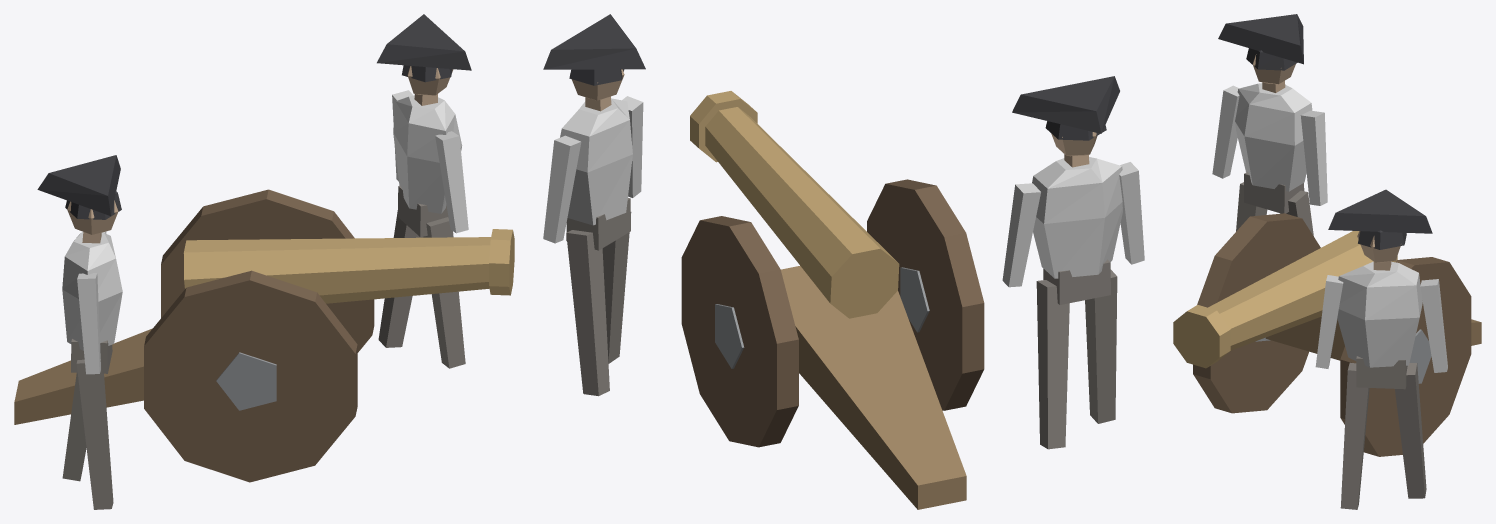
The model's file is cannon.glb.
3 views of the same model, side by side, from view 1: azimuth 30°, elevation 25°; view 2: azimuth 150°, elevation 25°; view 3: azimuth 270°, elevation 25° (orthographic). The views are drawn at different scales.
Visible parts, largest first — view 1: LOD0; view 2: LOD0; view 3: LOD0.
Part boxes in pixels (x1,y1,x2,y2): LOD0: (14, 14, 514, 509); LOD0: (543, 14, 1144, 509); LOD0: (1173, 14, 1481, 509).
Size of what is drawn, in the model's own units: 1.04 by 0.7259 by 0.6523.
